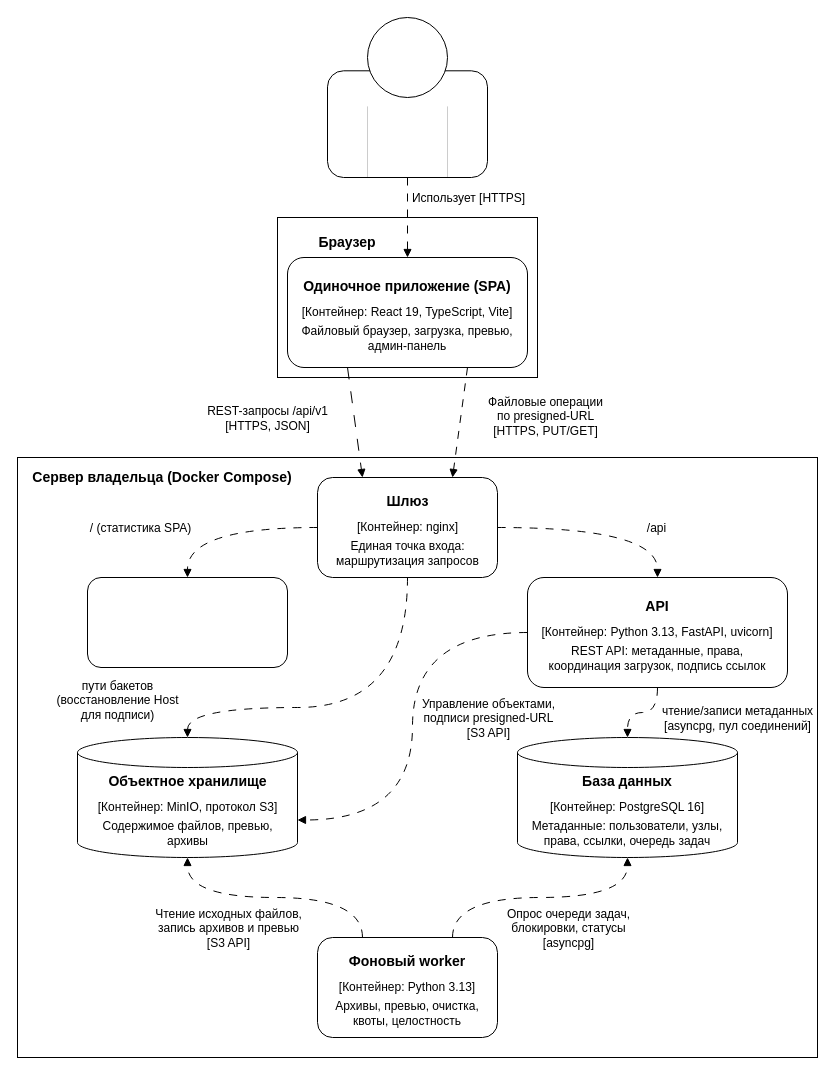
Some shapes in this 835 by 1075 pixel diagram are drawn without their labels. The shapes that lost their labels are listed below. From the top down, each one's centre as x and y in pixels, then its label:
pixel 407 124: Пользователь / Администратор / Гость
pixel 187 622: Веб-сервер статистики [Контейнер: nginx] Раздает собранный бандл SPA
